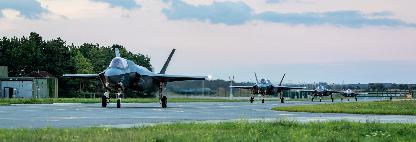F22: (61, 47, 211, 106), (229, 71, 306, 102), (297, 80, 348, 100), (168, 83, 216, 95), (331, 86, 367, 100)
